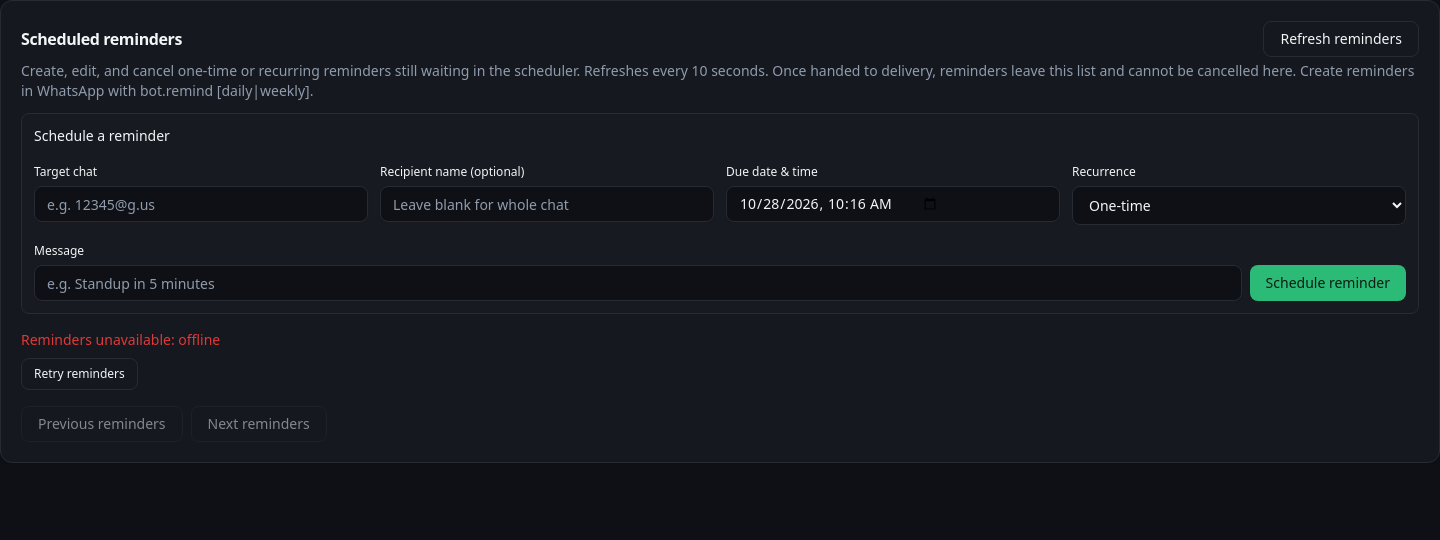
Test: scheduled reminders › distinguishes a query error, retry and successful empty list
The width and height of the screenshot is (1440, 540).
Expected: the message shows "offline", [21, 330, 220, 349]
Expected: the text "No scheduled reminders." is not shown
Click the button "Retry reminders" at (79, 374), box [21, 358, 138, 390]
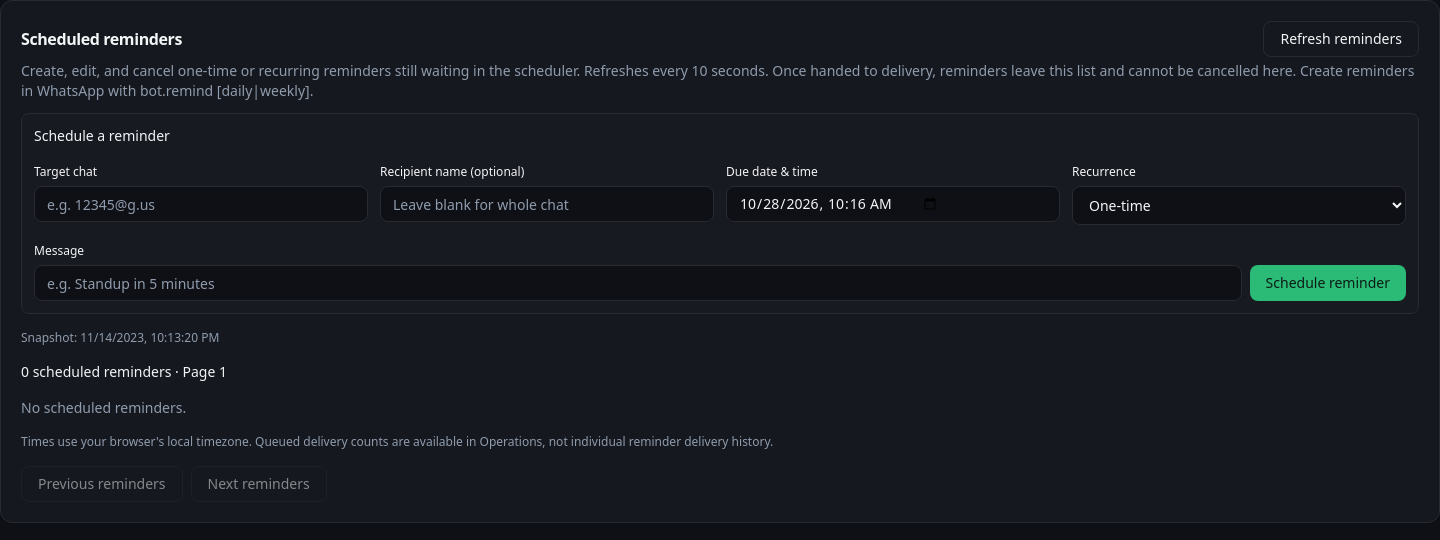
Expected: the text "No scheduled reminders." is shown, [21, 398, 186, 417]
